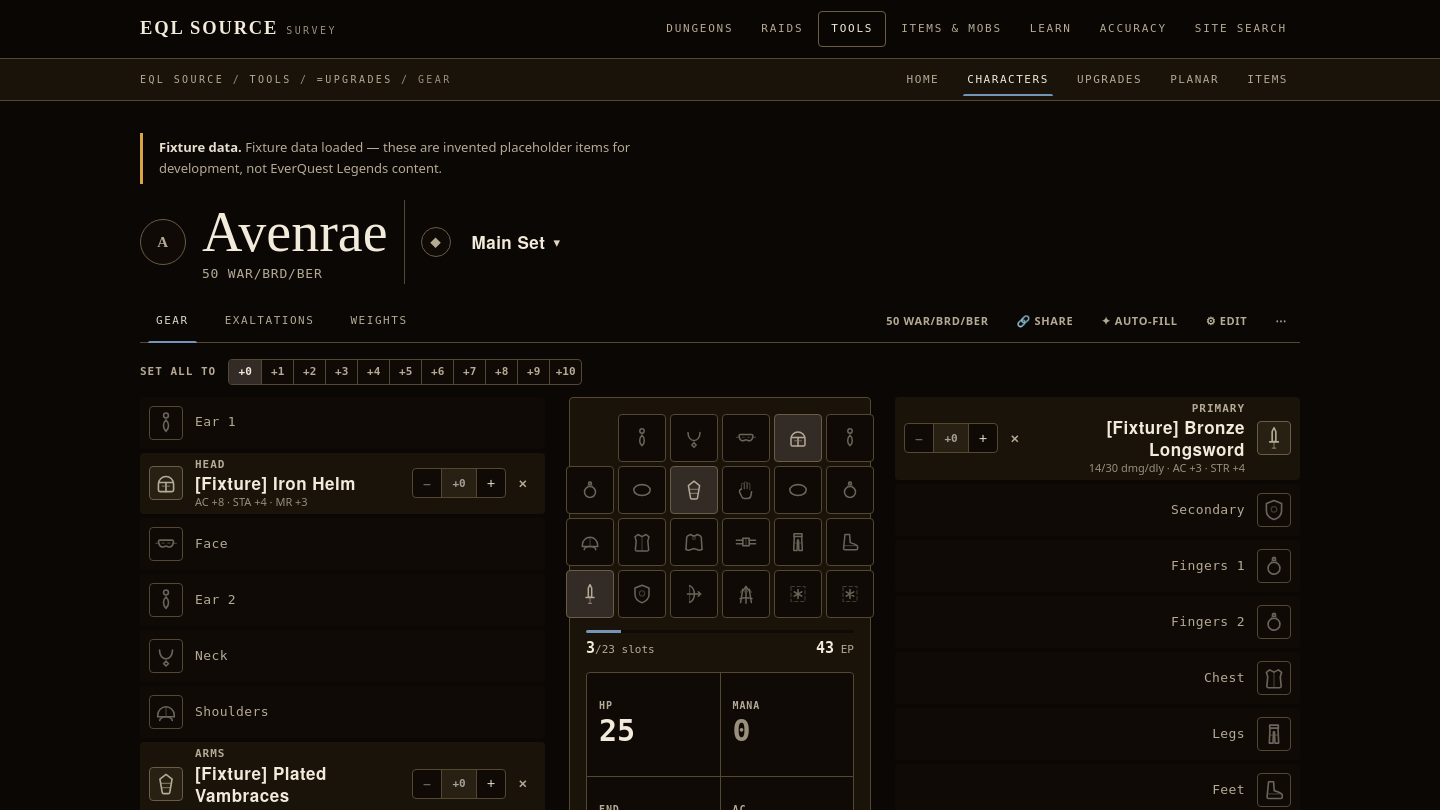
Scenario: the bulk +N strip › marks where the set already is, and moves the mark as the set moves
This screenshot has width=1440, height=810.
Expected: the button "+0" is shown, [229,360,261,384]
Click the button "+6".
click(437, 372)  # box [421,360,453,384]
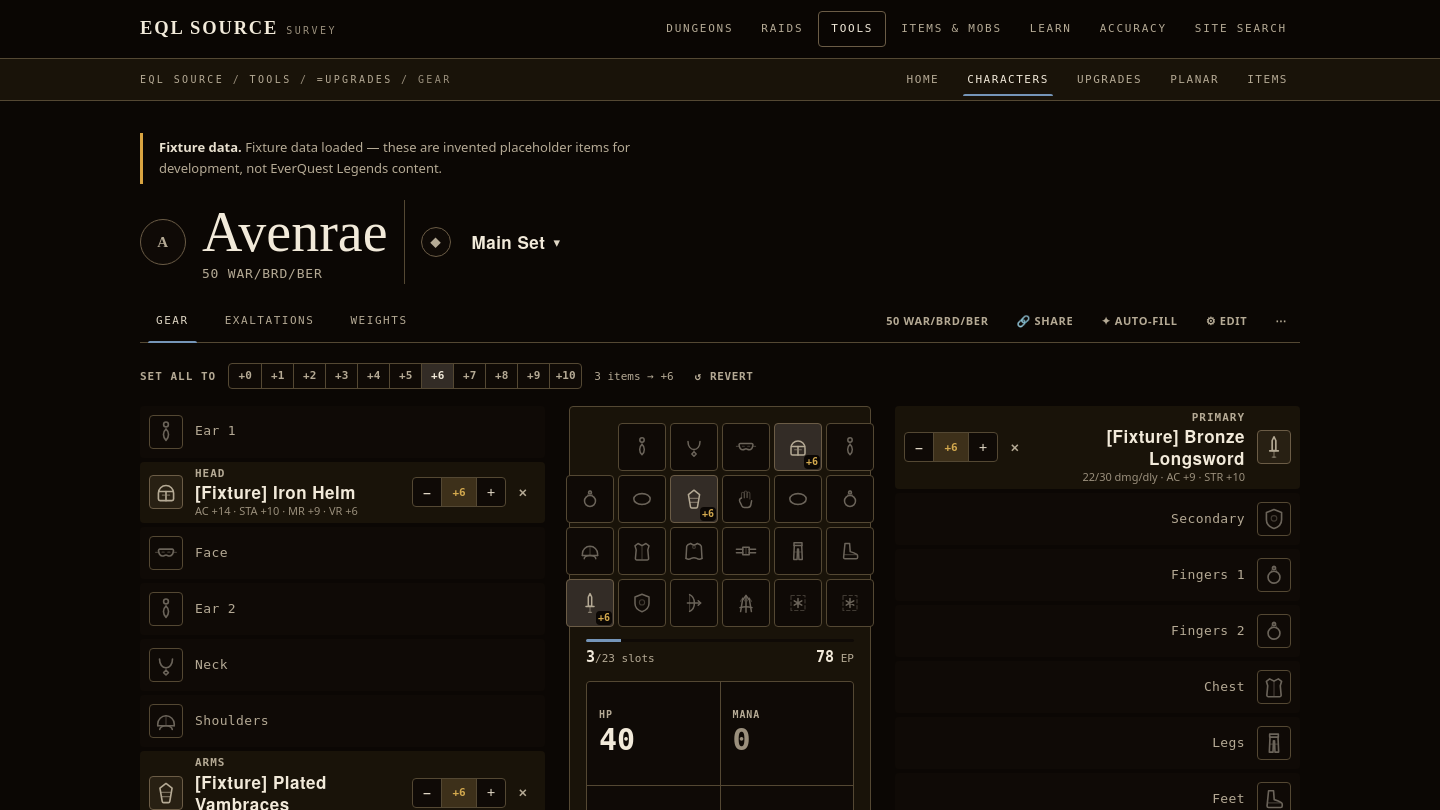
Expected: the button "+0" does not have attribute aria-current, [229,364,261,388]
Expected: the button "+6" in the row of "Set all to" is marked as current, [421,364,453,388]
